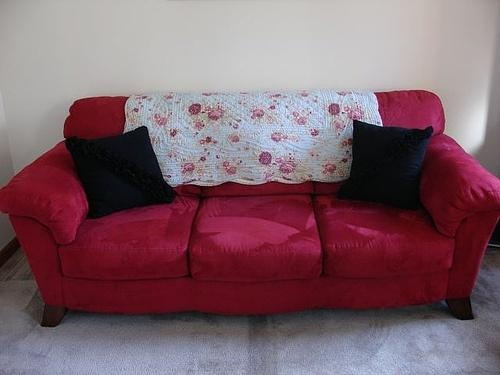sofa: (6, 89, 498, 327)
